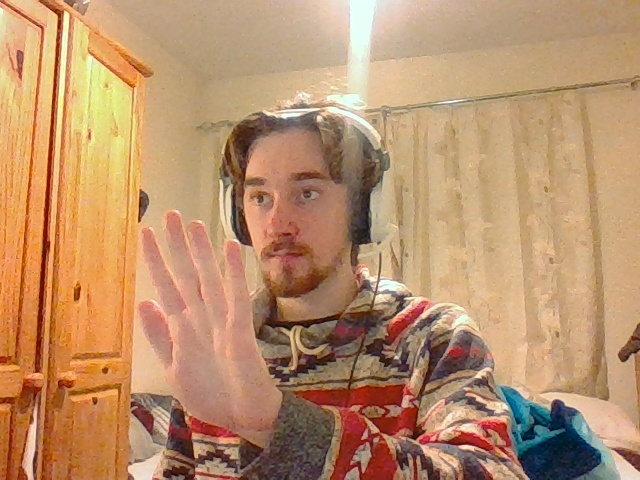hello: (138, 212, 276, 427)
